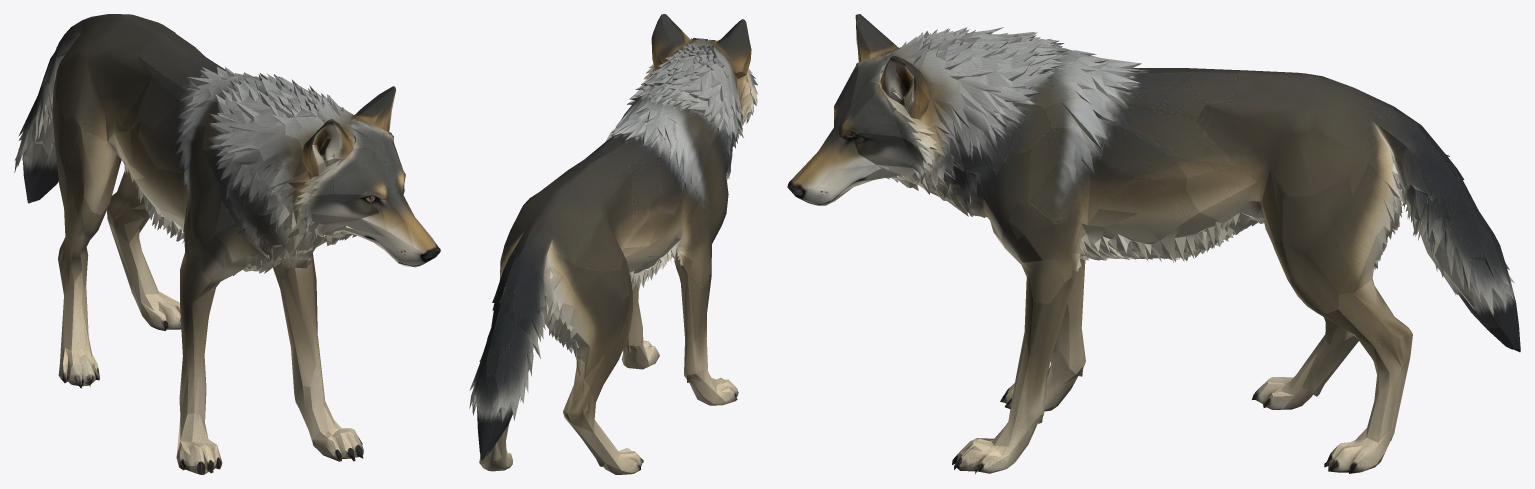
The model's file is loup.glb.
3 renders of one model, left to right at view 1: azimuth 30°, elevation 25°; view 2: azimuth 150°, elevation 25°; view 3: azimuth 270°, elevation 25°, orthographic. The views are drawn at different scales.
Bounding box in the file's own units: 0.5205 × 1.19 × 1.9.
1 material, 1 textured.
